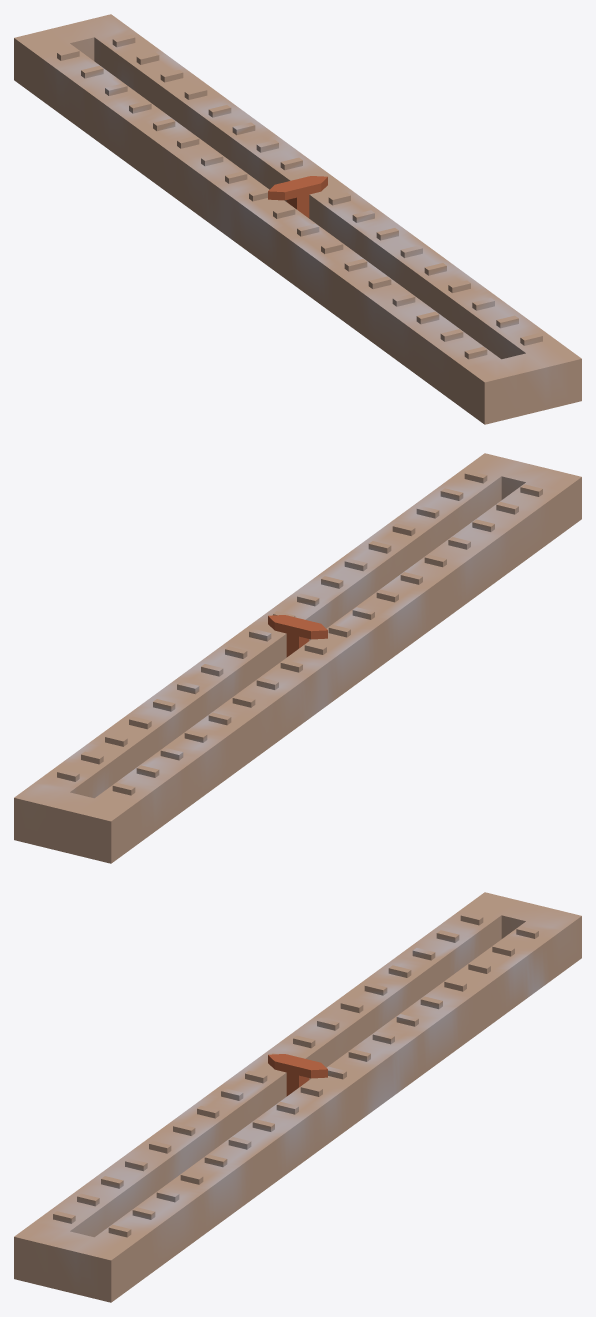
The model's file is meter.glb.
3 views of the same model, one above another, from view 1: azimuth 30°, elevation 25°; view 2: azimuth 150°, elevation 25°; view 3: azimuth 330°, elevation 25° (orthographic).
Parts seen in each view (by area): view 1: Cube, Cube.001; view 2: Cube, Cube.001; view 3: Cube, Cube.001.
Boxes of the visible parts, left/top/right/bottom form: Cube: left=14, top=14, right=581, bottom=424; Cube.001: left=268, top=176, right=327, bottom=218; Cube: left=14, top=453, right=581, bottom=863; Cube.001: left=268, top=615, right=327, bottom=657; Cube: left=14, top=892, right=581, bottom=1302; Cube.001: left=268, top=1054, right=327, bottom=1096.
Size of the model in its own units: 0.0923 by 0.0648 by 0.7743.
